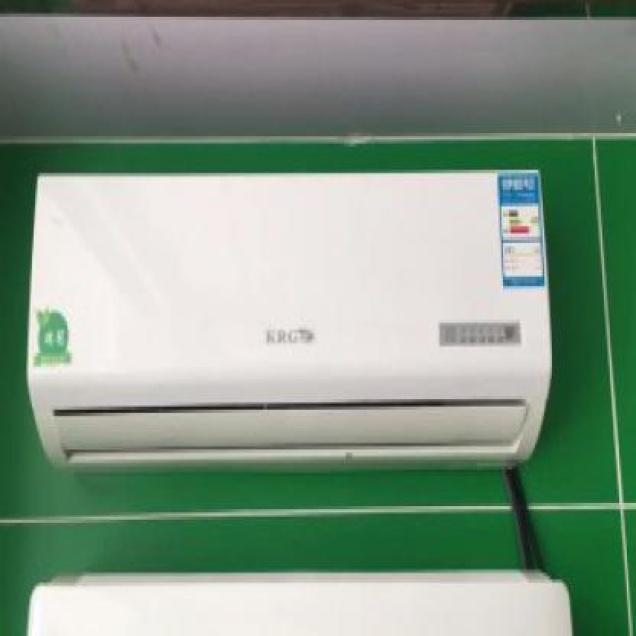AC: (26, 169, 553, 469)
